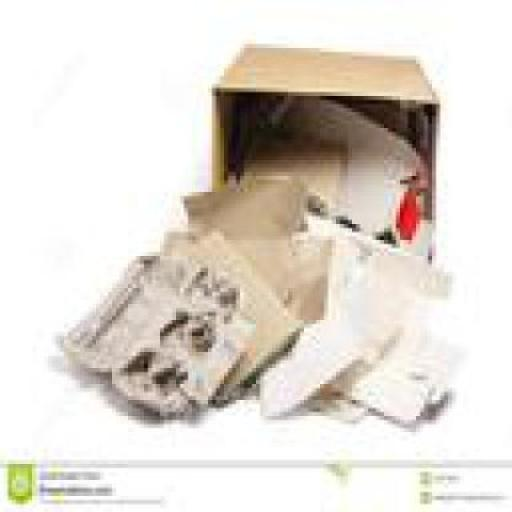cardboard: (208, 40, 436, 248), (52, 244, 252, 416), (156, 220, 300, 404), (184, 200, 328, 312), (232, 104, 340, 216), (240, 228, 332, 324)
metal: (232, 96, 424, 244), (300, 212, 444, 372), (304, 336, 457, 420), (252, 312, 384, 408)
